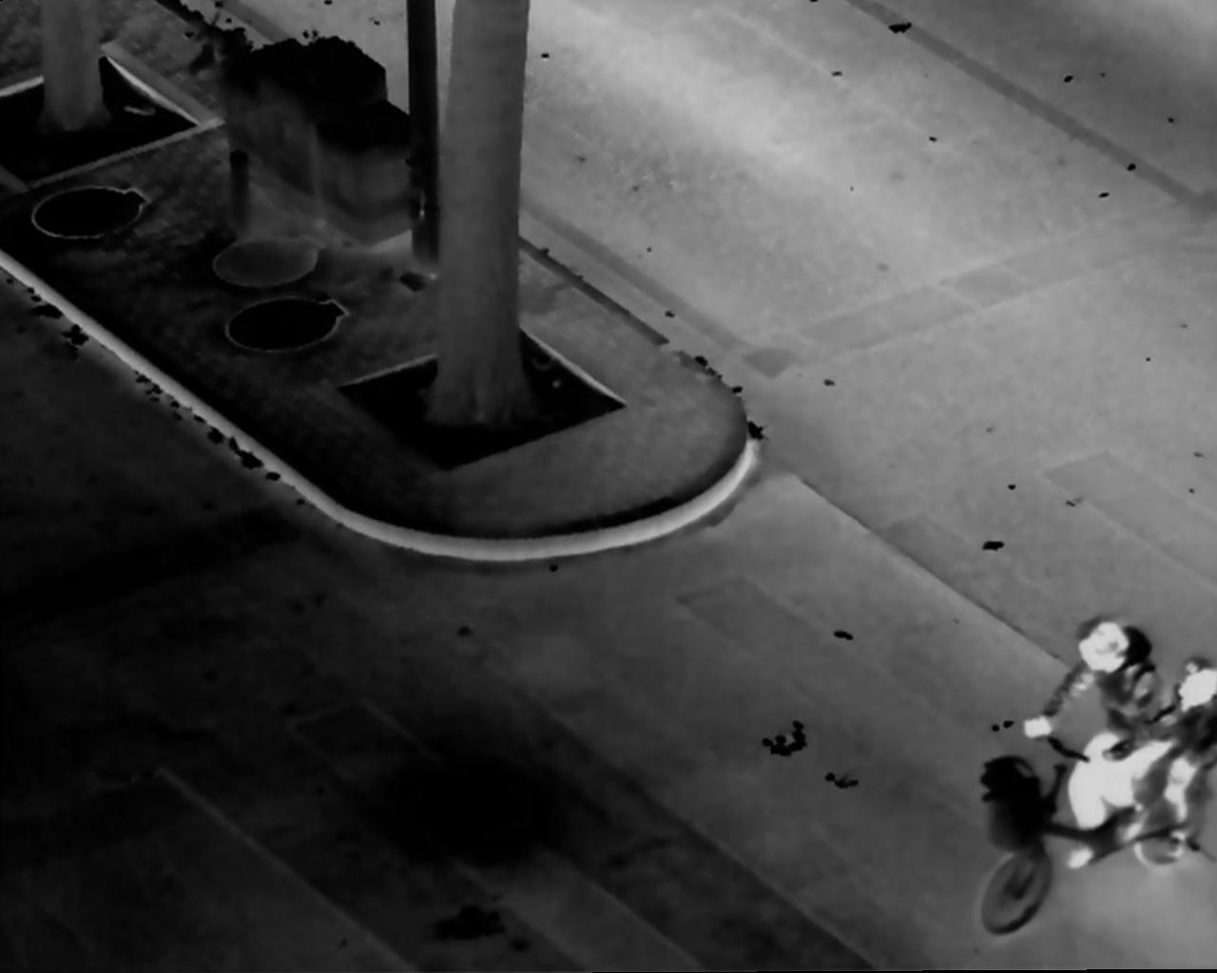person: (1027, 620, 1179, 875), (1170, 652, 1217, 850)
